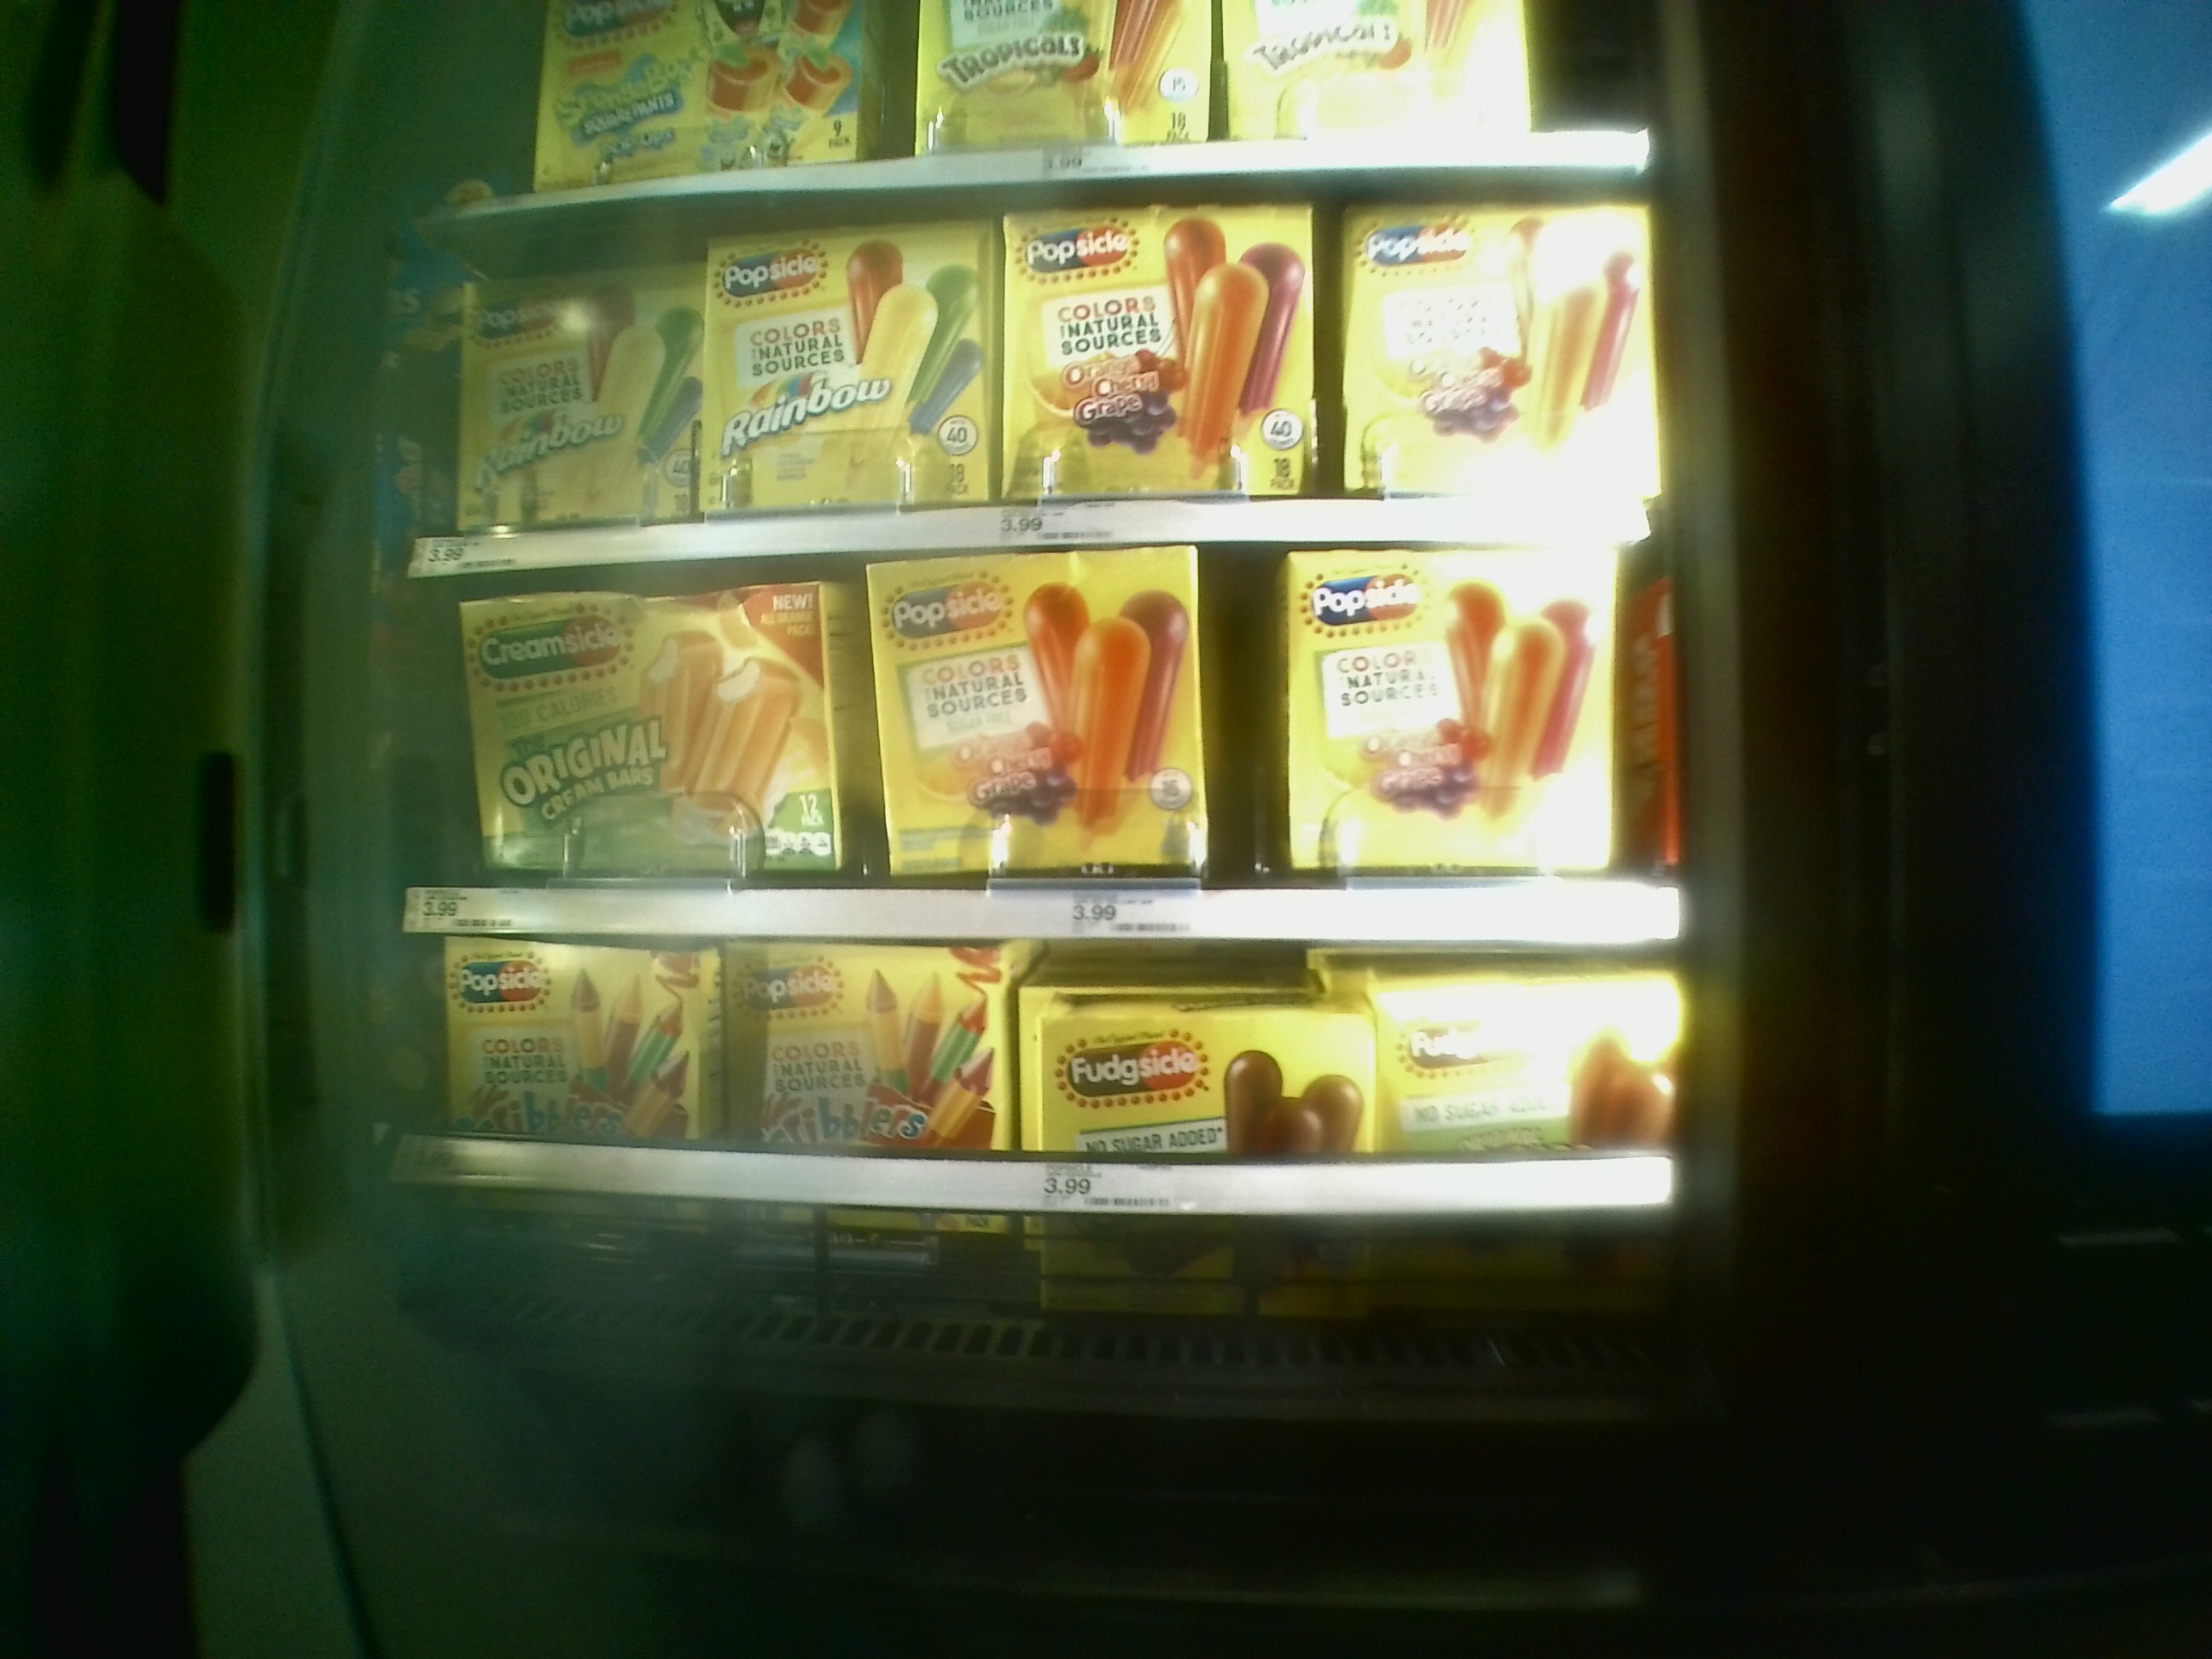frozen-food-shelf: (369, 932, 1712, 1218)
